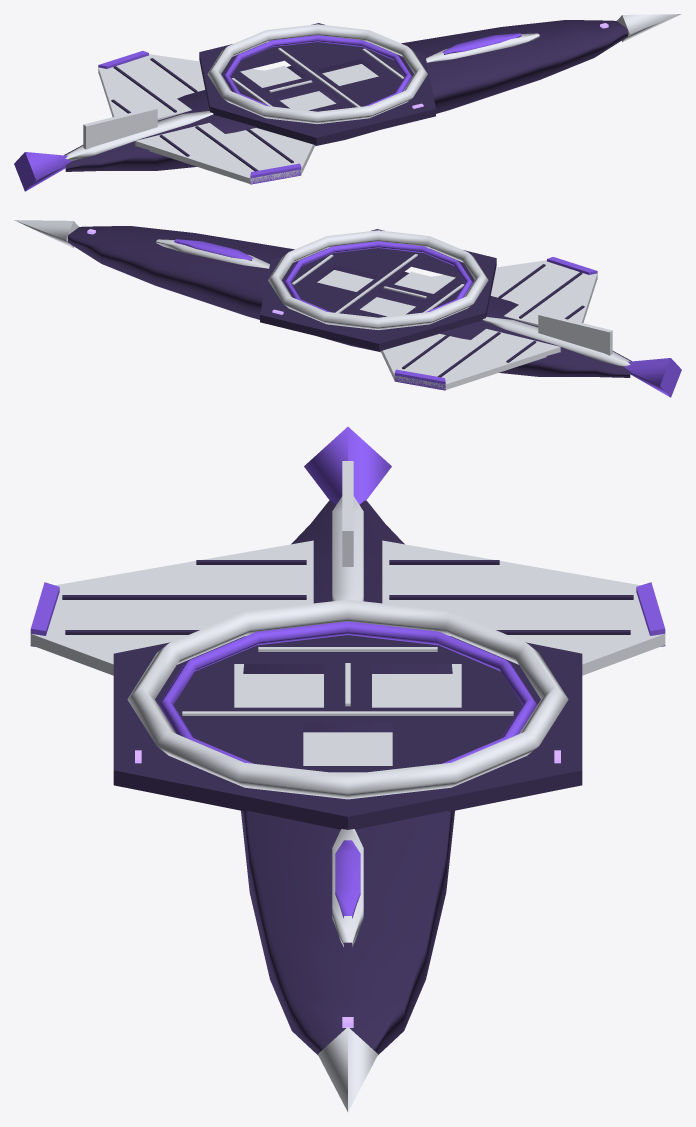
Rendered from antiphon-hadron.glb.
3 renders of one model, top to bottom at view 1: azimuth 30°, elevation 25°; view 2: azimuth 150°, elevation 25°; view 3: azimuth 270°, elevation 25°, orthographic. The views are drawn at different scales.
Parts seen in each view (by area): view 1: blade_hull, landing_deck, guard_wing_s, resonator_ring, guard_wing_p, ring_inner, dorsal_fin, blade_spine_aft, drive_prism, bow_prism, blade_spine, bay_floor_p (+6 smaller); view 2: blade_hull, landing_deck, guard_wing_p, resonator_ring, guard_wing_s, ring_inner, dorsal_fin, blade_spine_aft, drive_prism, bow_prism, blade_spine, bay_floor_s (+6 smaller); view 3: landing_deck, blade_hull, resonator_ring, guard_wing_s, guard_wing_p, ring_inner, drive_prism, bay_floor_fwd, bay_floor_s, bay_floor_p, bow_prism, blade_spine_aft (+6 smaller).
Part boxes in pixels (x1,y1,x2,y2): blade_hull: (64, 20, 627, 171); landing_deck: (199, 23, 435, 145); guard_wing_s: (135, 123, 315, 183); resonator_ring: (207, 24, 427, 124); guard_wing_p: (98, 54, 263, 120); ring_inner: (223, 35, 411, 106); dorsal_fin: (83, 107, 157, 149); blade_spine_aft: (65, 110, 213, 160); drive_prism: (14, 152, 71, 191); bow_prism: (617, 14, 681, 41); blade_spine: (426, 33, 539, 62); bay_floor_p: (245, 65, 301, 87); blade_hull: (68, 226, 631, 377); landing_deck: (260, 229, 496, 351); guard_wing_p: (380, 329, 560, 389); resonator_ring: (268, 230, 488, 330); guard_wing_s: (432, 260, 597, 326); ring_inner: (284, 241, 472, 312); dorsal_fin: (538, 313, 612, 355); blade_spine_aft: (482, 316, 630, 366); drive_prism: (624, 358, 681, 397); bow_prism: (14, 220, 78, 247); blade_spine: (156, 239, 269, 268); bay_floor_s: (394, 271, 450, 293); landing_deck: (113, 635, 582, 829); blade_hull: (241, 500, 454, 1054); resonator_ring: (127, 599, 568, 799); guard_wing_s: (30, 540, 313, 675); guard_wing_p: (382, 540, 665, 675); ring_inner: (158, 621, 537, 763); drive_prism: (304, 427, 391, 504); bay_floor_fwd: (303, 732, 392, 765); bay_floor_s: (234, 674, 323, 707); bay_floor_p: (372, 674, 461, 707); bow_prism: (317, 1027, 378, 1111); blade_spine_aft: (332, 496, 363, 601).
Bounding box in the file's own units: 110 × 10.8 × 46.
